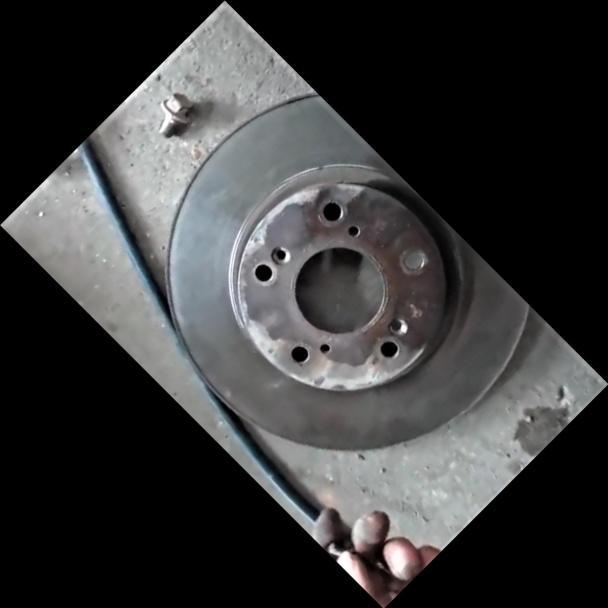hole: (316, 196, 345, 225), (398, 245, 427, 274), (374, 334, 402, 362), (383, 312, 411, 340), (248, 258, 276, 286), (265, 242, 293, 269), (286, 340, 312, 366), (343, 221, 360, 238), (316, 339, 332, 355)
